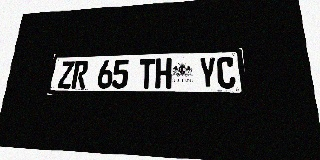5: (112, 59, 129, 89)
6: (97, 60, 114, 89)
C: (216, 57, 236, 89)
H: (155, 58, 172, 89)
R: (71, 60, 89, 89)
T: (138, 59, 155, 89)
Y: (199, 57, 217, 89)
Z: (57, 61, 75, 89)
